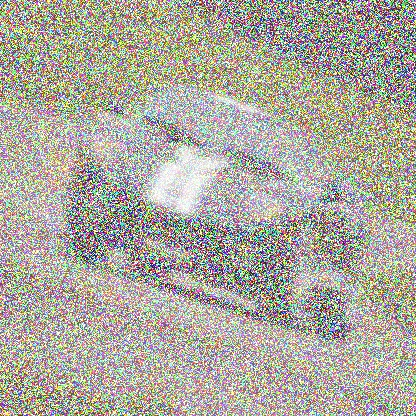Vehicle: (65, 81, 369, 340)
